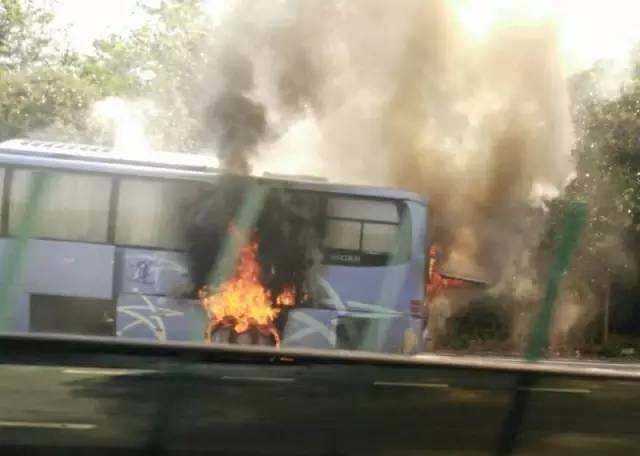fire: (195, 238, 305, 350), (424, 245, 456, 294)
